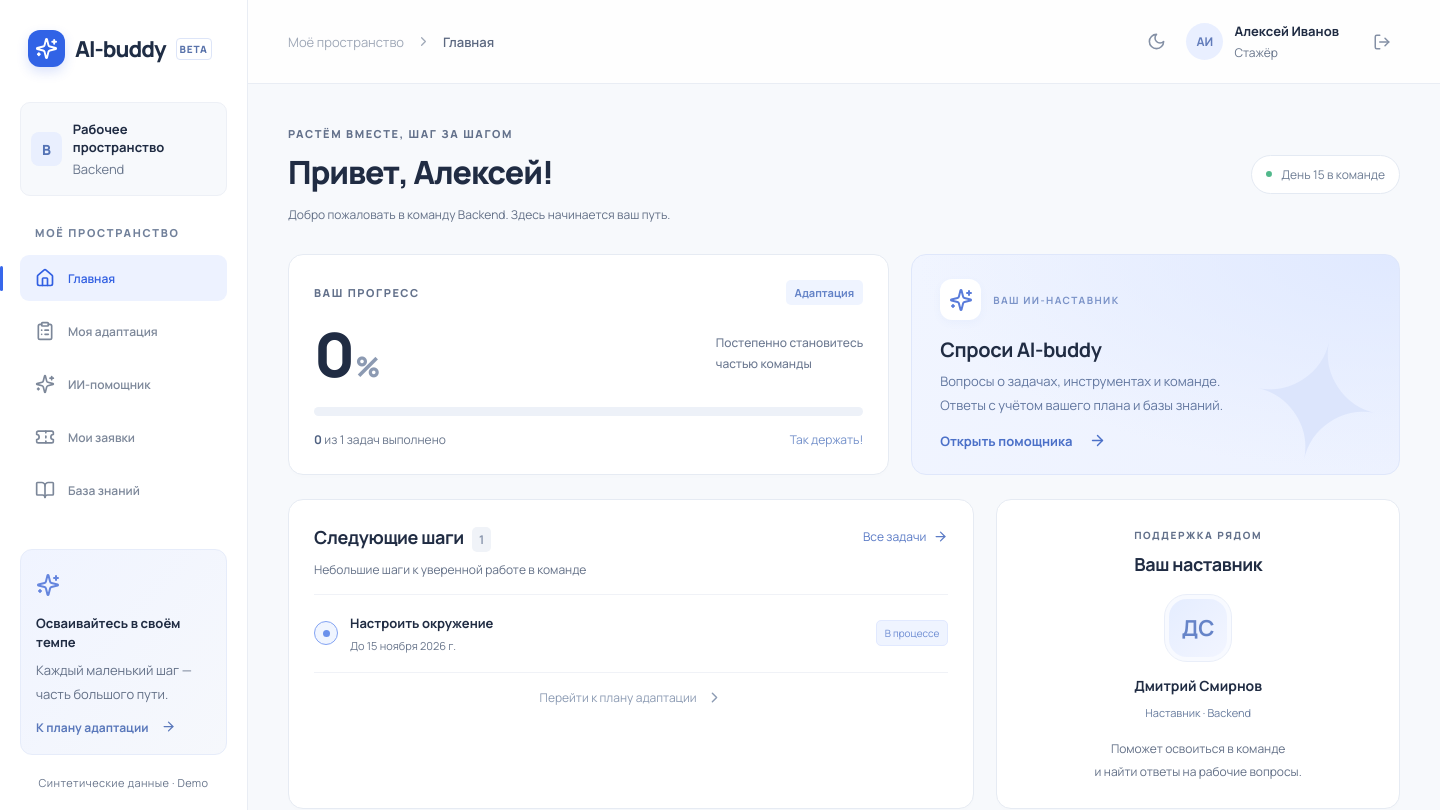
Test: authenticated login redirects and logout removes private content
Check: the heading "Дмитрий Смирнов" is shown, box [1134,676,1262,695]
What coordinates should you click on to do the following:
click the button named "Выйти из аккаунта"
I would click on:
 (1382, 42)
Its box is [1364,24,1400,60].
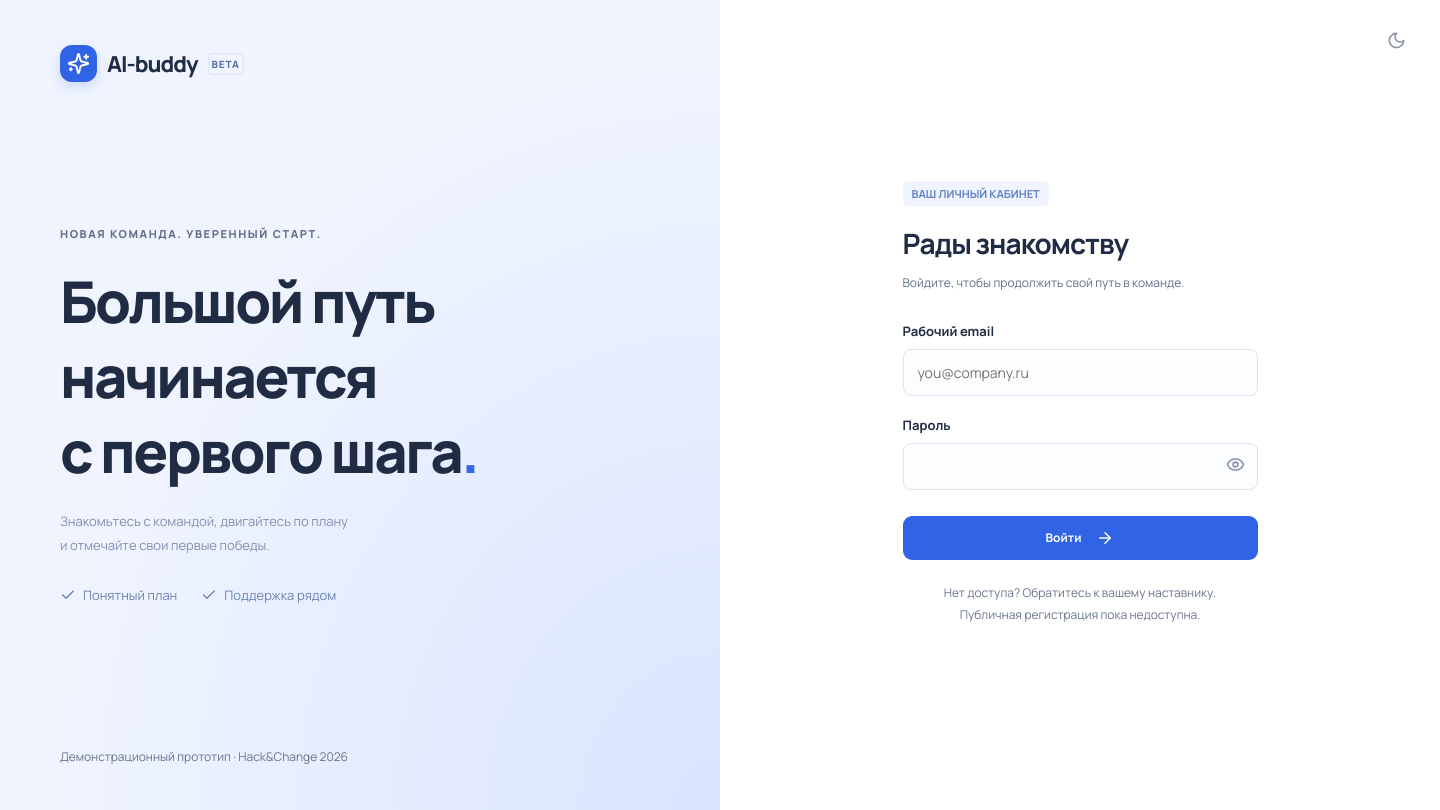
Check: the heading "Рады знакомству" is shown, box [902,224,1128,262]
Check: the heading "Дмитрий Смирнов" is gone
